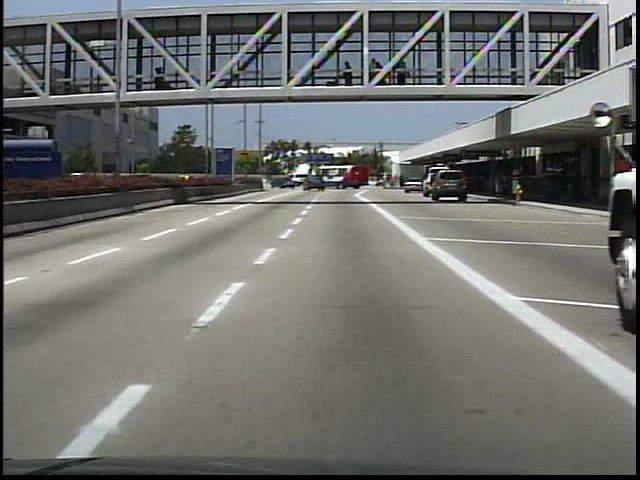person: (338, 57, 357, 89), (152, 64, 172, 93), (490, 168, 508, 200)
